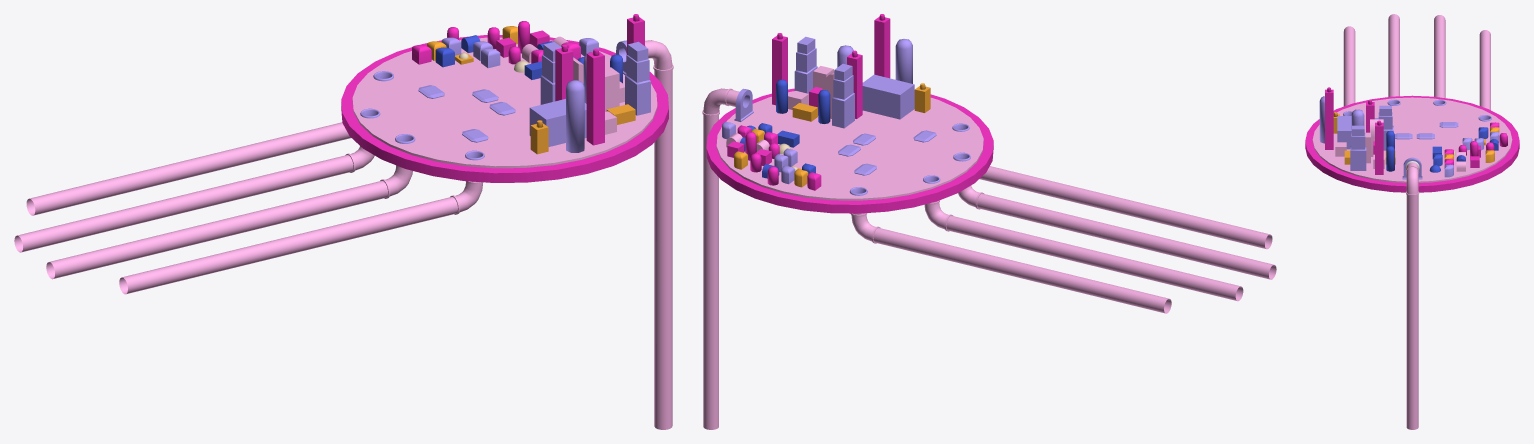
The model's file is platform_level3&4_a01.glb.
3 views of the same model, side by side, from view 1: azimuth 30°, elevation 25°; view 2: azimuth 150°, elevation 25°; view 3: azimuth 270°, elevation 25° (orthographic). The views are drawn at different scales.
Parts seen in each view (by area): view 1: Cylinder.061, Cylinder.062, Cube.213, Cube.271, Cube.210, Cube.270, Cube.212, Cube.254, Cube.257, Cylinder.077, Cube.222, Cube.215 (+1 smaller); view 2: Cylinder.061, Cylinder.062, Cube.212, Cube.270, Cube.213, Cube.210, Cube.271, Cube.222, Cube.215, Cube.257, Cube.254, Cube.255 (+2 smaller); view 3: Cylinder.061, Cube.210, Cylinder.062, Cube.271, Cube.213, Cube.270, Cube.212, Cube.257, Cube.254, Cube.255, Cube.222, Cube.215 (+4 smaller).
Boxes of the visible parts, bbox=[...] form: Cylinder.061: bbox=[352, 37, 657, 168]; Cylinder.062: bbox=[341, 35, 668, 182]; Cube.213: bbox=[46, 165, 412, 279]; Cube.271: bbox=[119, 181, 483, 294]; Cube.210: bbox=[645, 40, 673, 429]; Cube.270: bbox=[14, 146, 374, 252]; Cube.212: bbox=[26, 122, 350, 215]; Cube.254: bbox=[586, 48, 604, 145]; Cube.257: bbox=[625, 41, 650, 115]; Cylinder.077: bbox=[566, 80, 584, 152]; Cube.222: bbox=[529, 99, 586, 146]; Cube.215: bbox=[540, 42, 561, 104]; Cylinder.061: bbox=[716, 91, 983, 200]; Cylinder.062: bbox=[706, 88, 993, 213]; Cube.212: bbox=[850, 213, 1171, 313]; Cube.270: bbox=[924, 200, 1243, 301]; Cube.213: bbox=[958, 185, 1276, 279]; Cube.210: bbox=[702, 88, 739, 429]; Cube.271: bbox=[979, 166, 1272, 249]; Cube.222: bbox=[862, 74, 914, 119]; Cube.215: bbox=[832, 63, 854, 128]; Cube.257: bbox=[794, 36, 817, 93]; Cube.254: bbox=[874, 14, 890, 78]; Cube.255: bbox=[772, 33, 787, 105]; Cylinder.061: bbox=[1312, 97, 1512, 182]; Cube.210: bbox=[1406, 162, 1419, 429]; Cylinder.062: bbox=[1305, 95, 1519, 192]; Cube.271: bbox=[1343, 26, 1355, 106]; Cube.213: bbox=[1388, 14, 1399, 96]; Cube.270: bbox=[1434, 15, 1445, 98]; Cube.212: bbox=[1479, 30, 1490, 110]; Cube.257: bbox=[1350, 125, 1366, 170]; Cube.254: bbox=[1325, 87, 1333, 149]; Cube.255: bbox=[1375, 120, 1383, 174]; Cube.222: bbox=[1337, 116, 1351, 149]; Cube.215: bbox=[1378, 105, 1393, 150].
Size of the model in its own units: 105 by 72.08 by 47.13.
